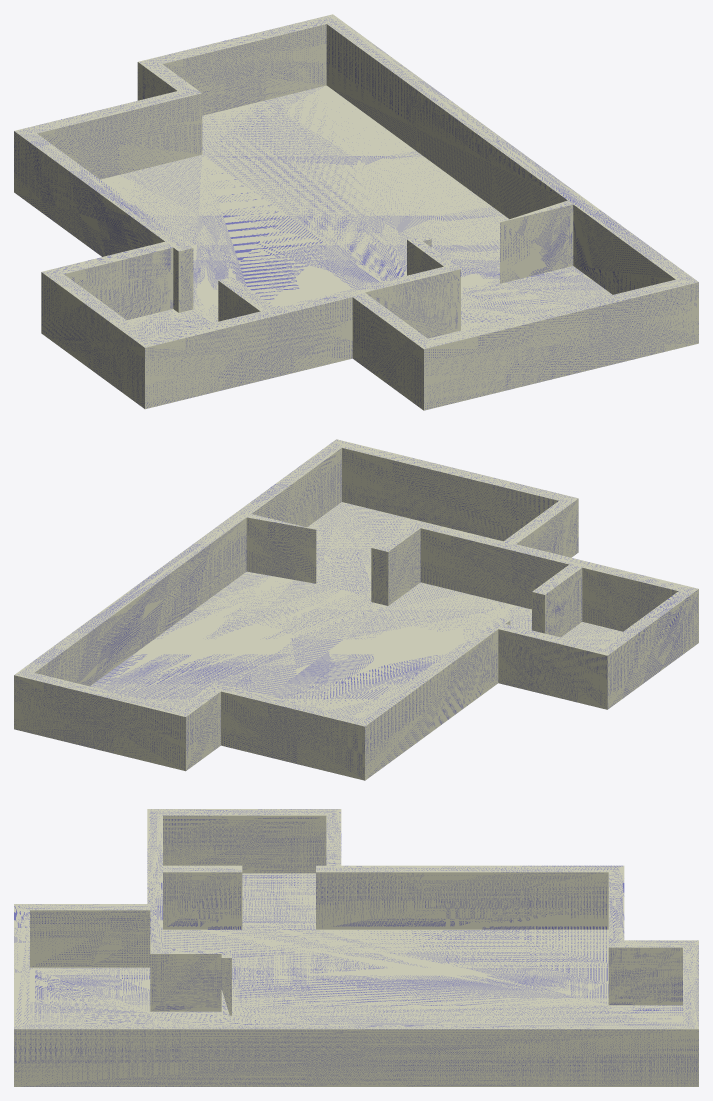
The model's file is jun491e7.dae.
The picture shows the model from 3 angles, top to bottom: view 1: azimuth 30°, elevation 25°; view 2: azimuth 150°, elevation 25°; view 3: azimuth 270°, elevation 25°; orthographic projection. The views are drawn at different scales.
Parts seen in each view (by area): view 1: SketchUp; view 2: SketchUp; view 3: SketchUp.
Boxes of the visible parts, box(x1,y1,x2,y2) form: SketchUp: box(14, 14, 698, 410); SketchUp: box(14, 439, 698, 780); SketchUp: box(14, 809, 698, 1086).
Bounding box in the file's own units: 658 × 864 × 80.
